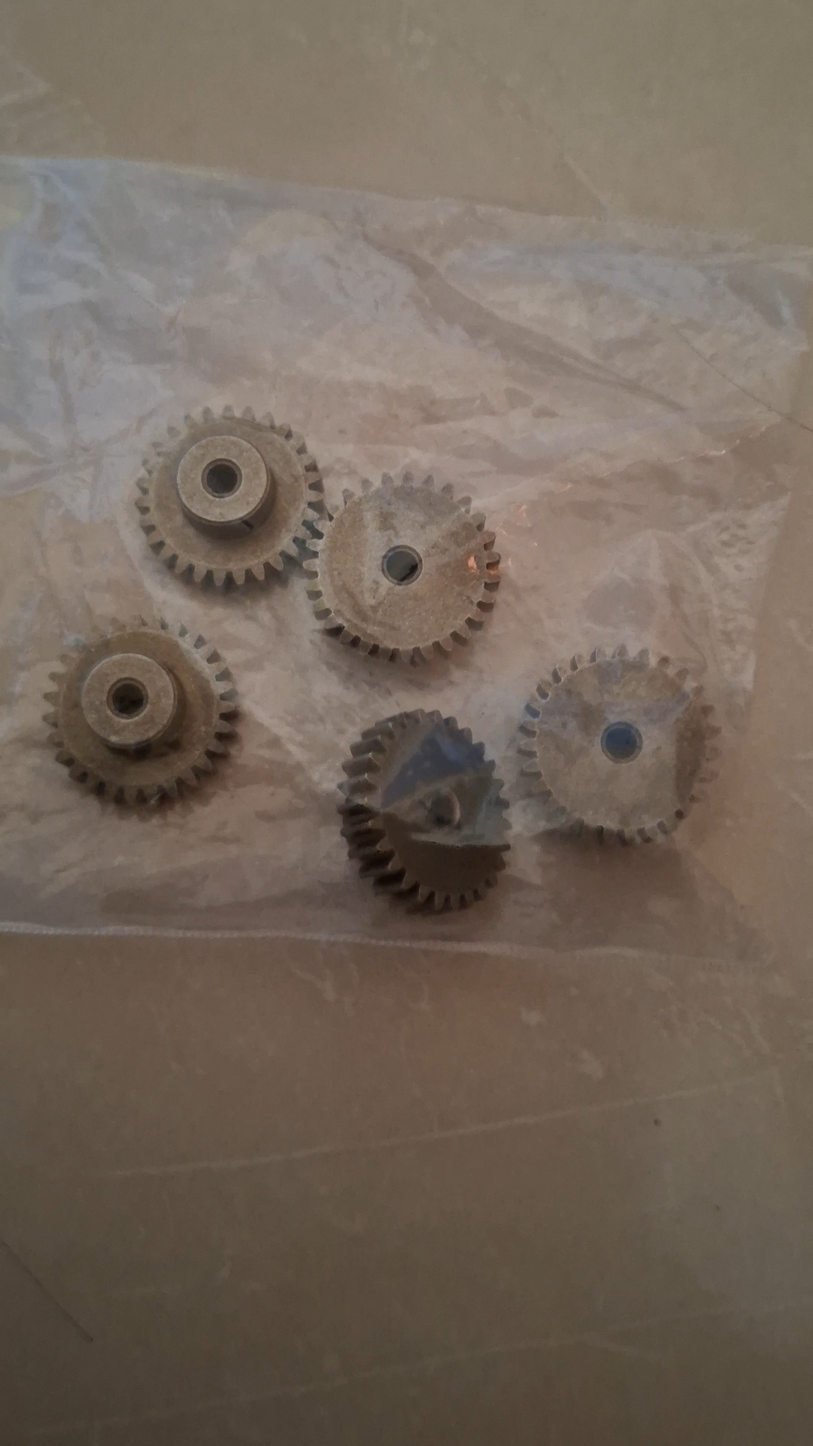spur gear: (519, 645, 720, 842), (304, 473, 499, 661), (44, 618, 236, 804), (340, 710, 509, 911), (136, 407, 323, 588)
